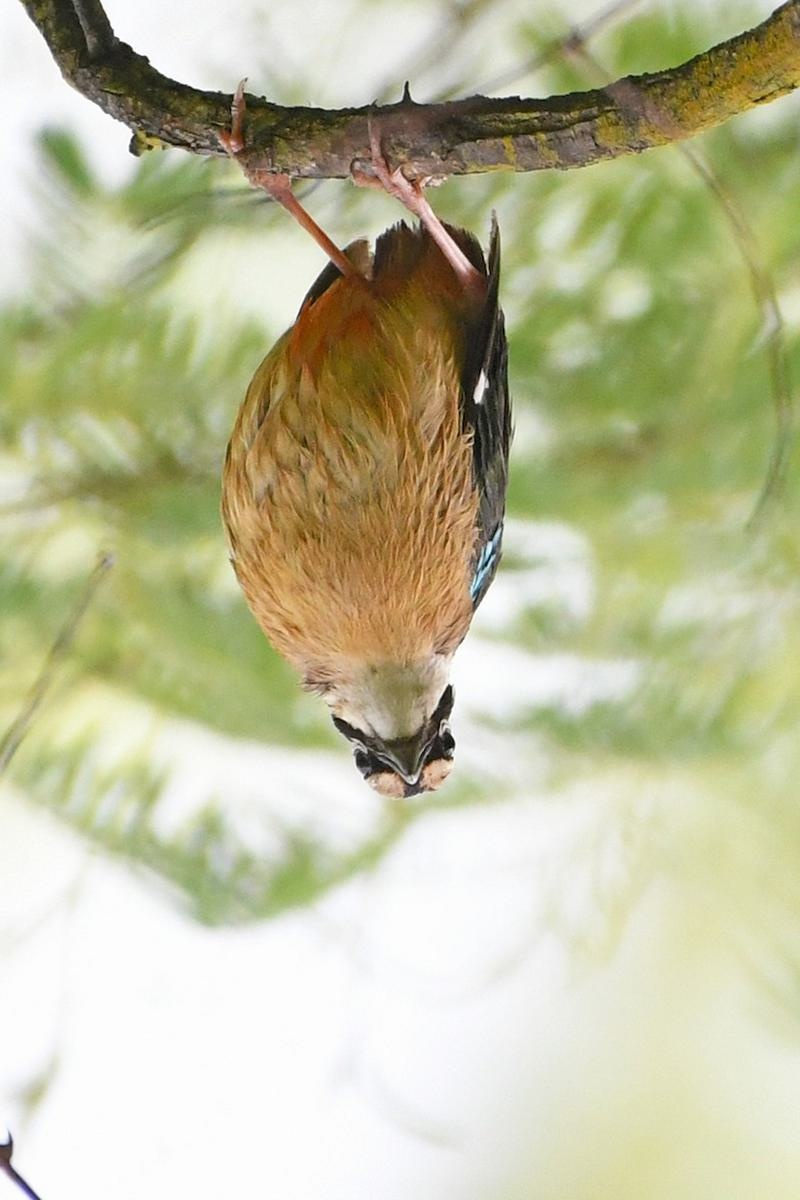pitta: (196, 204, 648, 927)
